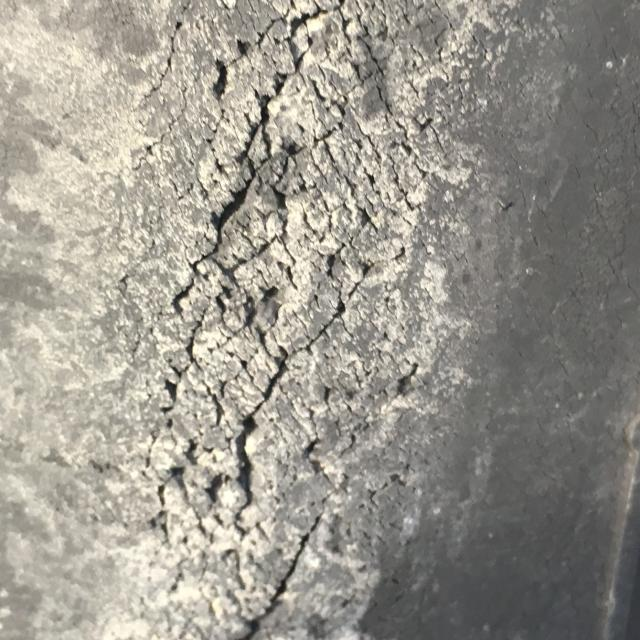Cracks: (54, 0, 566, 640)
